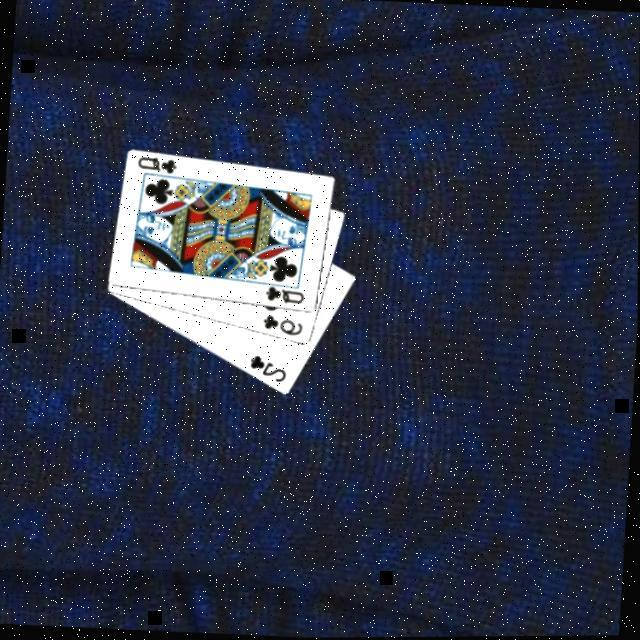2C: (248, 353, 292, 387)
6C: (262, 313, 309, 340)
QC: (264, 285, 309, 309), (136, 154, 181, 178)
